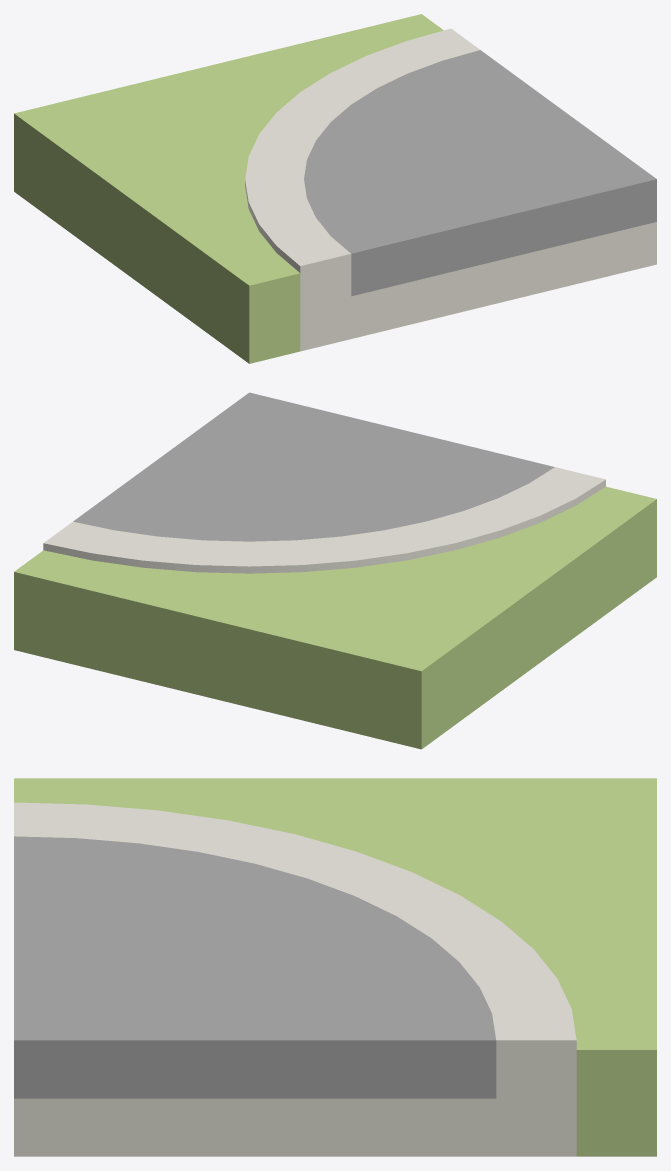
The model's file is road_tile_054.glb.
3 views of the same model, one above another, from view 1: azimuth 30°, elevation 25°; view 2: azimuth 150°, elevation 25°; view 3: azimuth 270°, elevation 25° (orthographic). The views are drawn at different scales.
Visible parts, largest first — view 1: roadTile_054; view 2: roadTile_054; view 3: roadTile_054.
Part boxes in pixels (x1=…): roadTile_054: x1=14, y1=14, x2=656, y2=363; roadTile_054: x1=14, y1=392, x2=656, y2=749; roadTile_054: x1=14, y1=778, x2=656, y2=1156.
Size of the model in its own units: 3 by 0.6 by 3.
